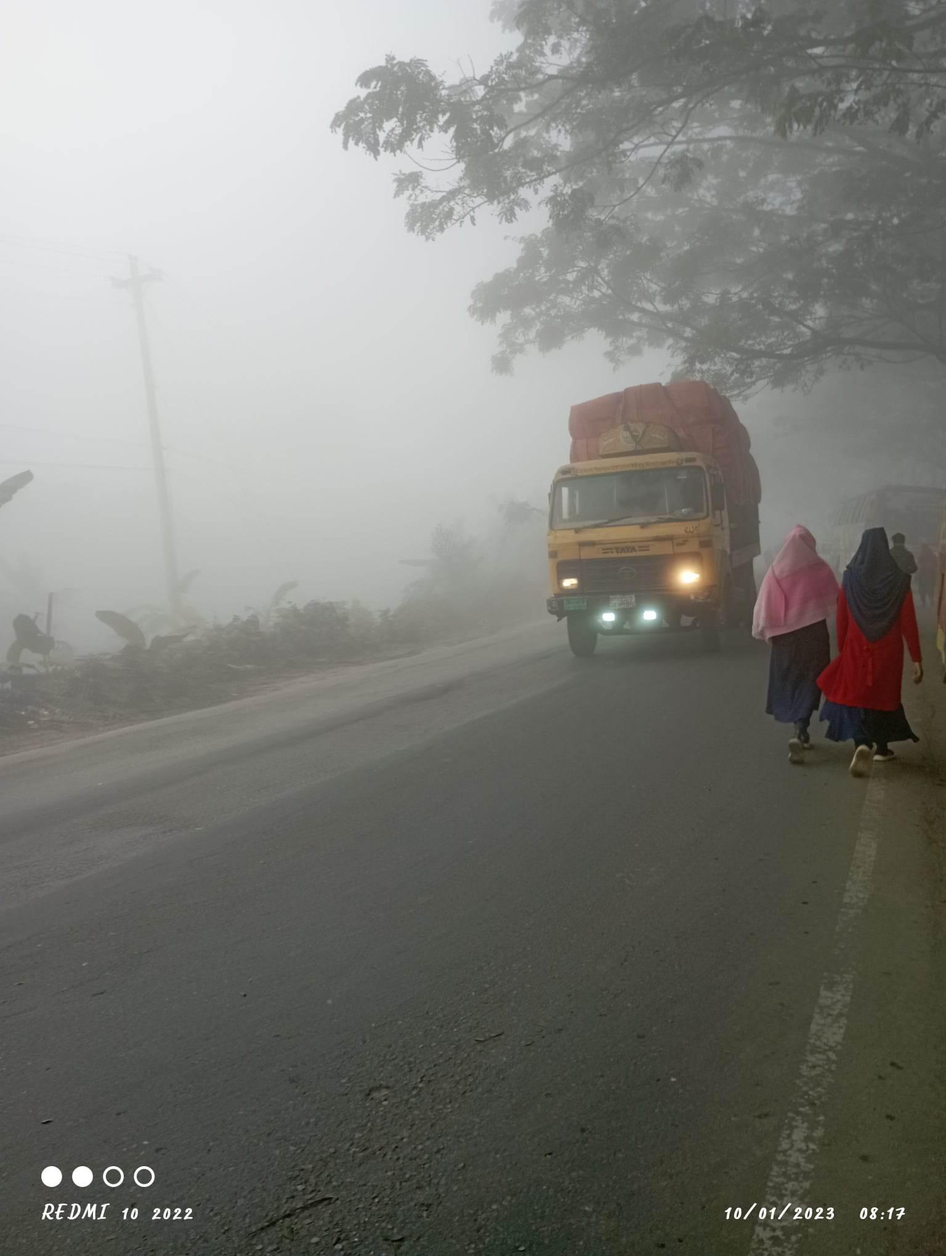Truck: (513, 364, 762, 670)
